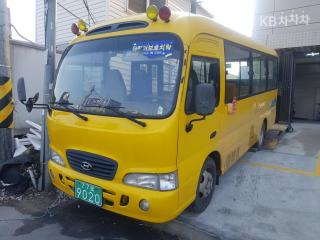0: (93, 193, 101, 205), (82, 189, 88, 200)
2: (87, 192, 94, 203)
7: (80, 182, 85, 189), (85, 183, 90, 190)
9: (76, 187, 82, 198)
plate: (71, 177, 106, 209)
보: (90, 184, 95, 192)
